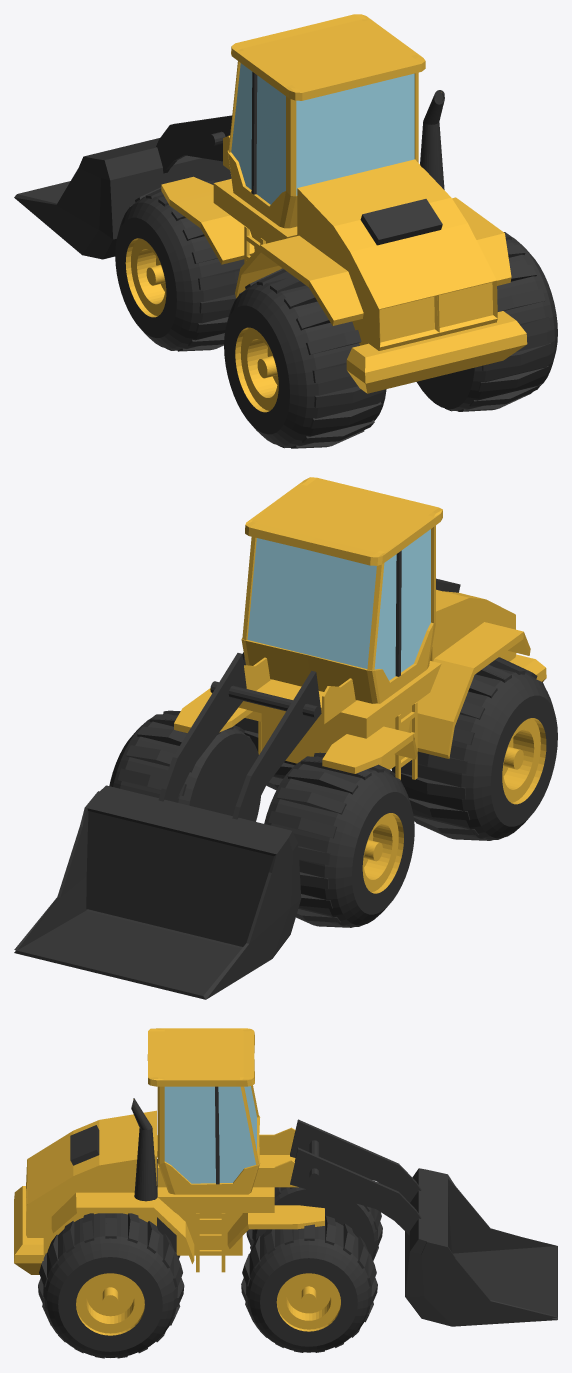
Rendered from Bulldozer.fbx.
3 renders of one model, top to bottom at view 1: azimuth 30°, elevation 25°; view 2: azimuth 150°, elevation 25°; view 3: azimuth 270°, elevation 25°, orthographic. The views are drawn at different scales.
Visible parts, largest first — view 1: Body.001, Wheel_Right_Back, Wheel_Right_Front, Plane.001, Wheel_Left_Back, Front_Forks; view 2: Body.001, Plane.001, Wheel_Right_Back, Wheel_Right_Front, Wheel_Left_Front, Front_Forks, Front_Forks_Supporter, Wheel_Left_Back; view 3: Body.001, Wheel_Left_Back, Plane.001, Wheel_Left_Front, Front_Forks, Wheel_Right_Front.
Part boxes in pixels (x1,y1,x2,y2): Body.001: (161,14,527,393); Wheel_Right_Back: (224,268,386,448); Wheel_Right_Front: (115,179,244,351); Plane.001: (14,138,231,259); Wheel_Left_Back: (416,232,557,411); Front_Forks: (156,115,232,173); Body.001: (174,477,546,779); Plane.001: (14,785,301,999); Wheel_Right_Back: (391,657,557,840); Wheel_Right_Front: (264,752,414,927); Wheel_Left_Front: (109,710,260,821); Front_Forks: (158,653,321,820); Front_Forks_Supporter: (210,681,319,718); Wheel_Left_Back: (235,652,296,790); Body.001: (14,1028,324,1274); Wheel_Left_Back: (38,1213,184,1358); Plane.001: (405,1168,557,1326); Wheel_Left_Front: (241,1215,377,1352); Front_Forks: (290,1119,421,1235); Wheel_Right_Front: (246,1187,382,1260).
Bounding box in the file's own units: 281 × 336 × 632.
1 material, 1 textured.
